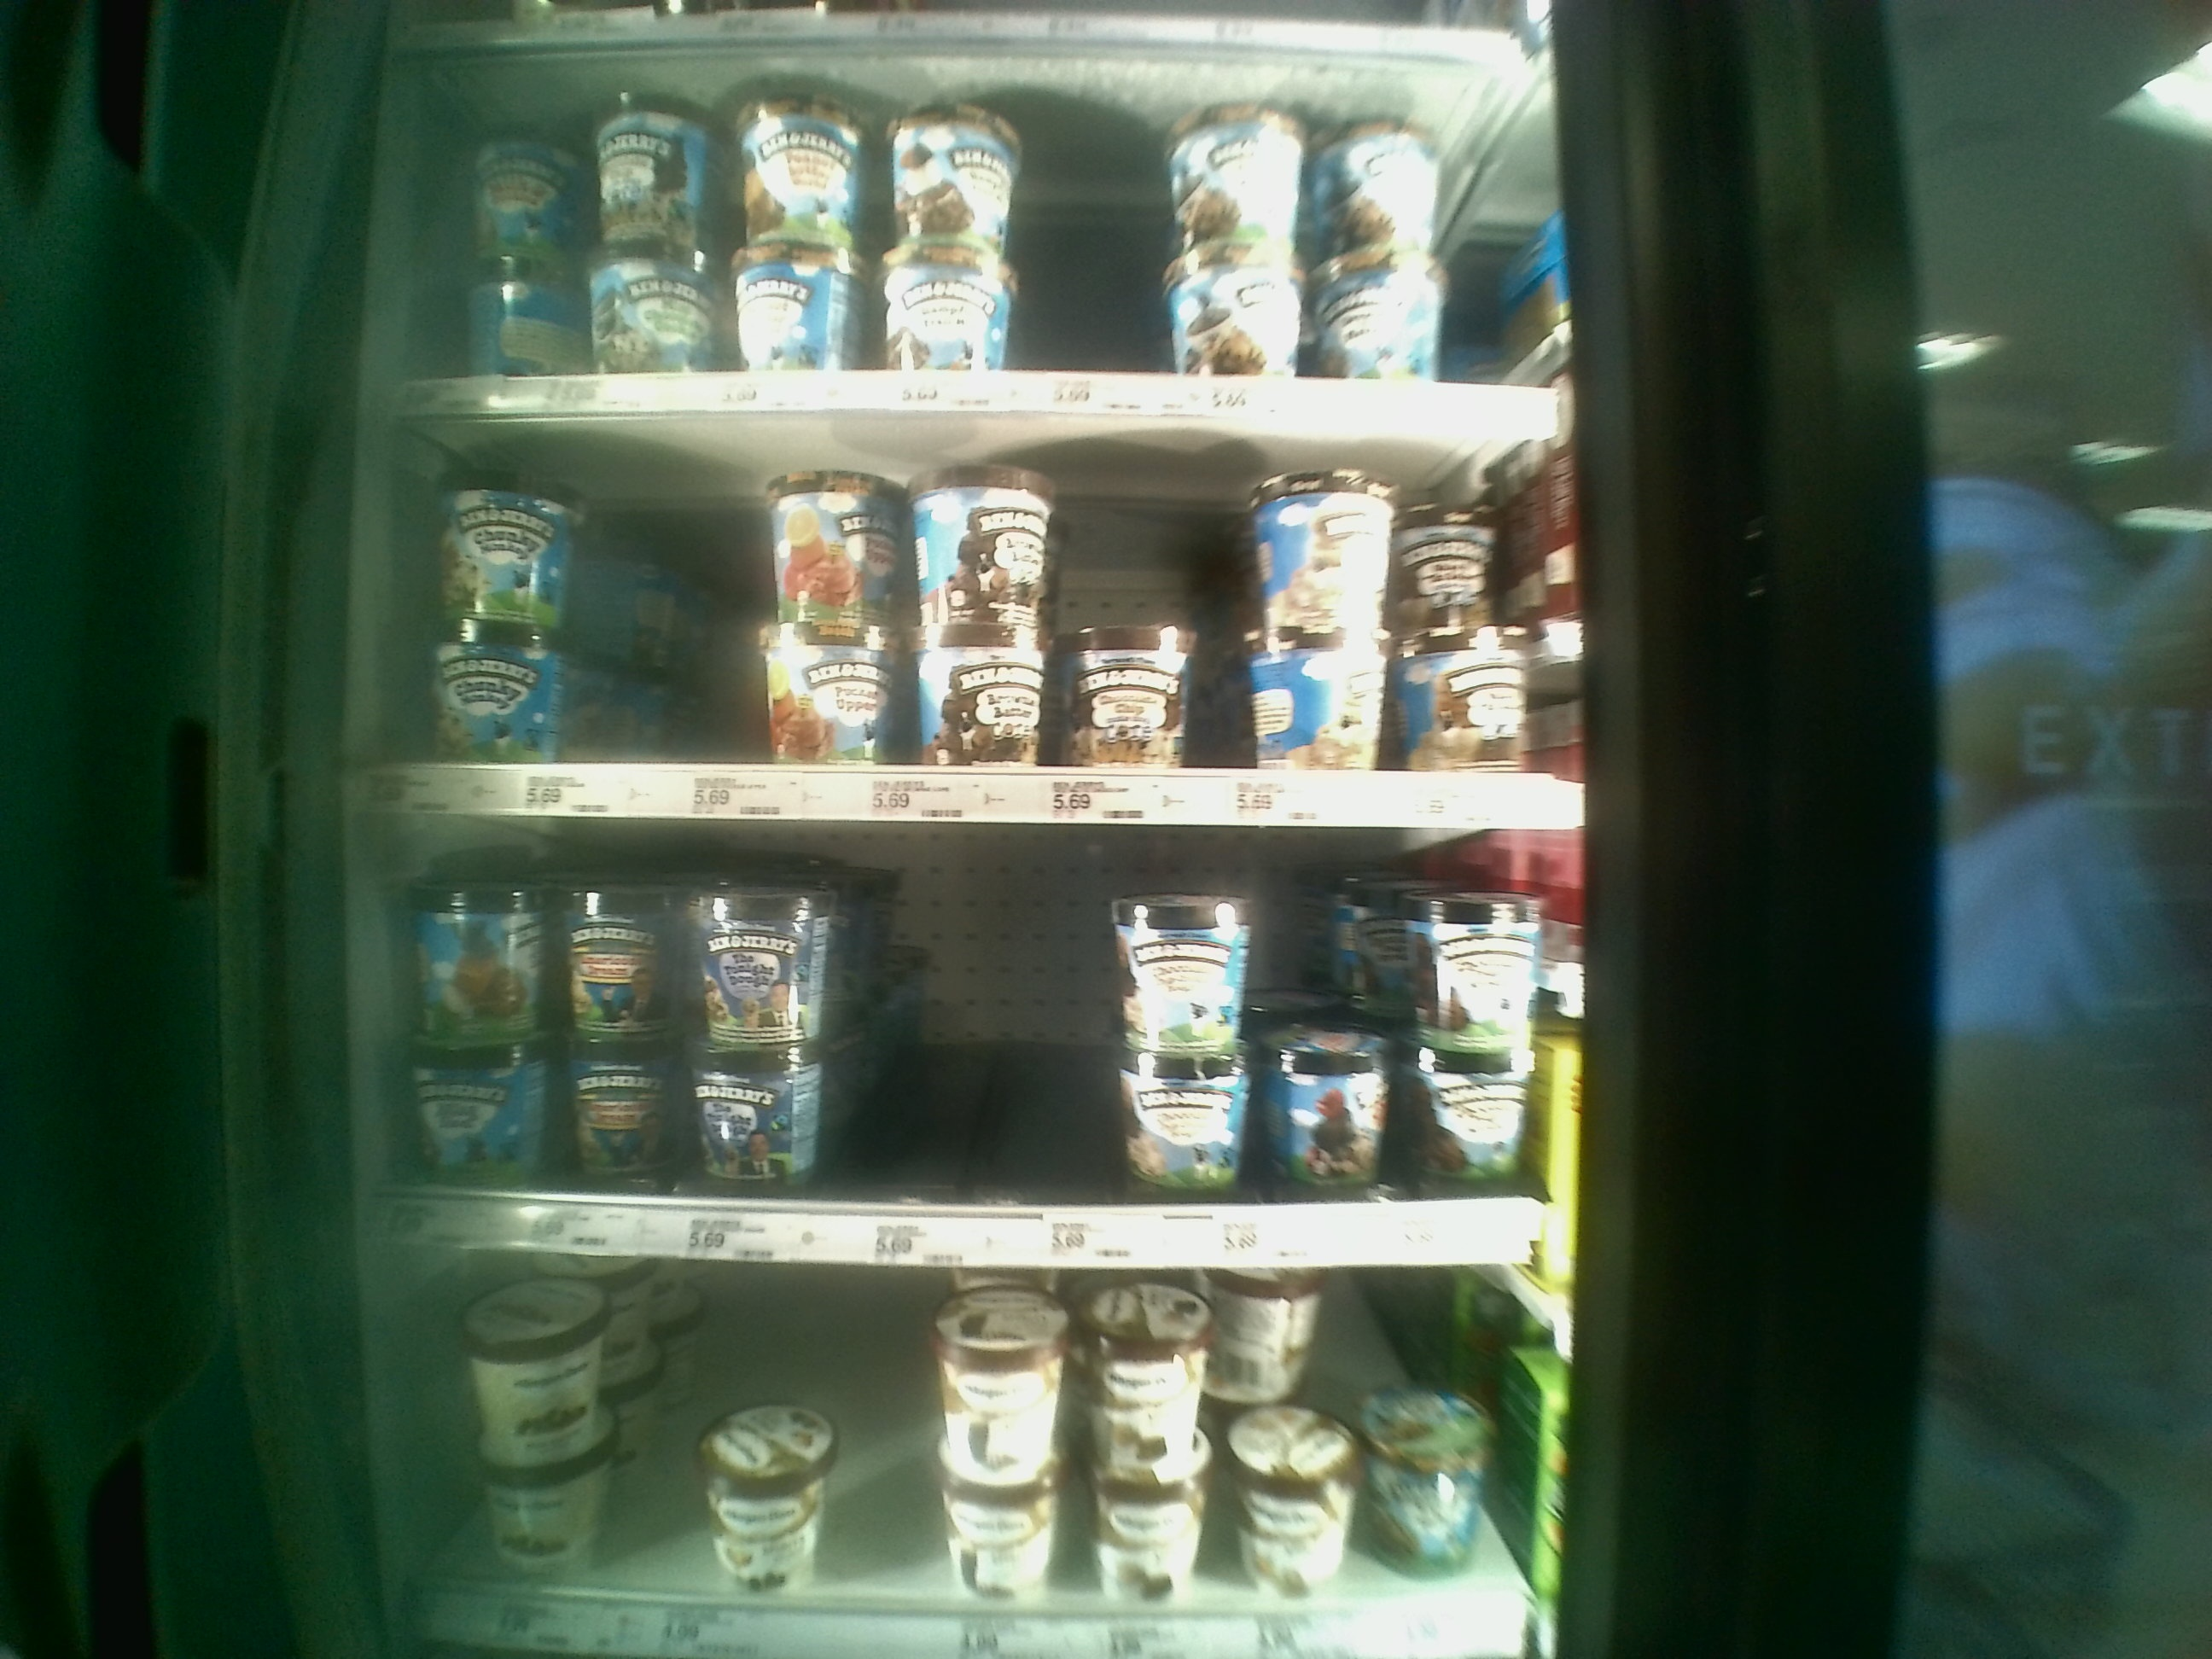ice-cream-shelf: (341, 817, 1590, 1263), (355, 408, 1569, 823)
